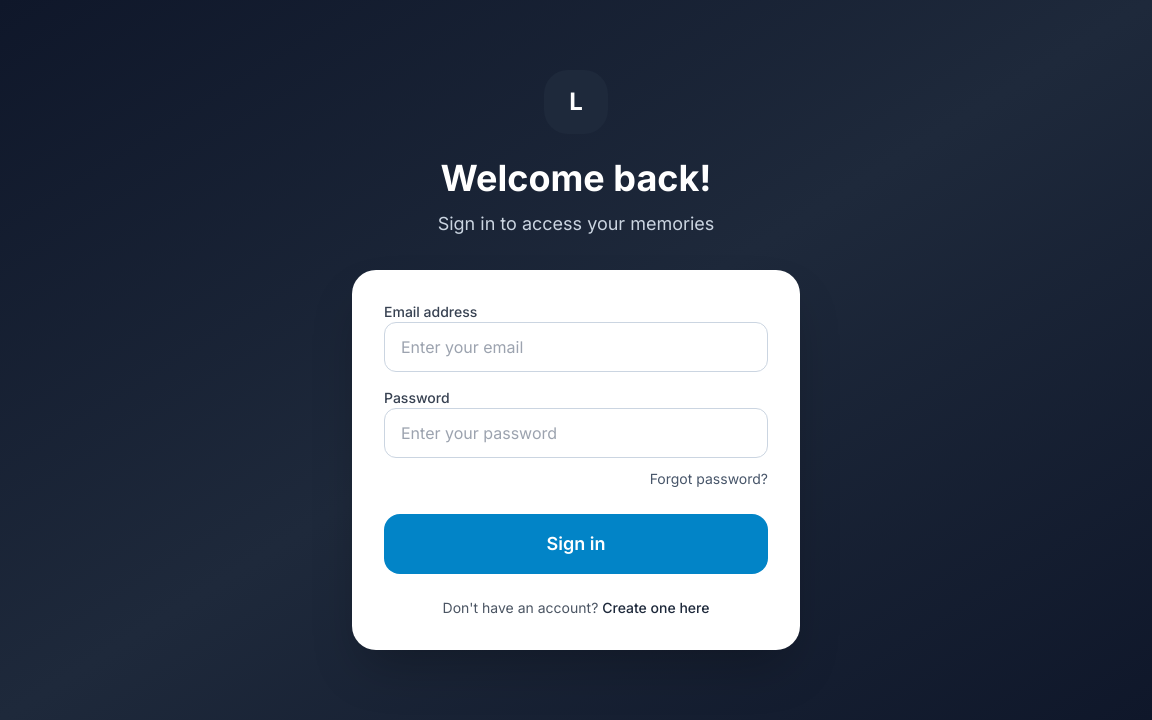
Scenario: Auth Forms - Login Component › should show loading state during login
Type "test@example.com" into the field with placeholder "Enter your email" at point(576, 347), box [384,322,768,372]
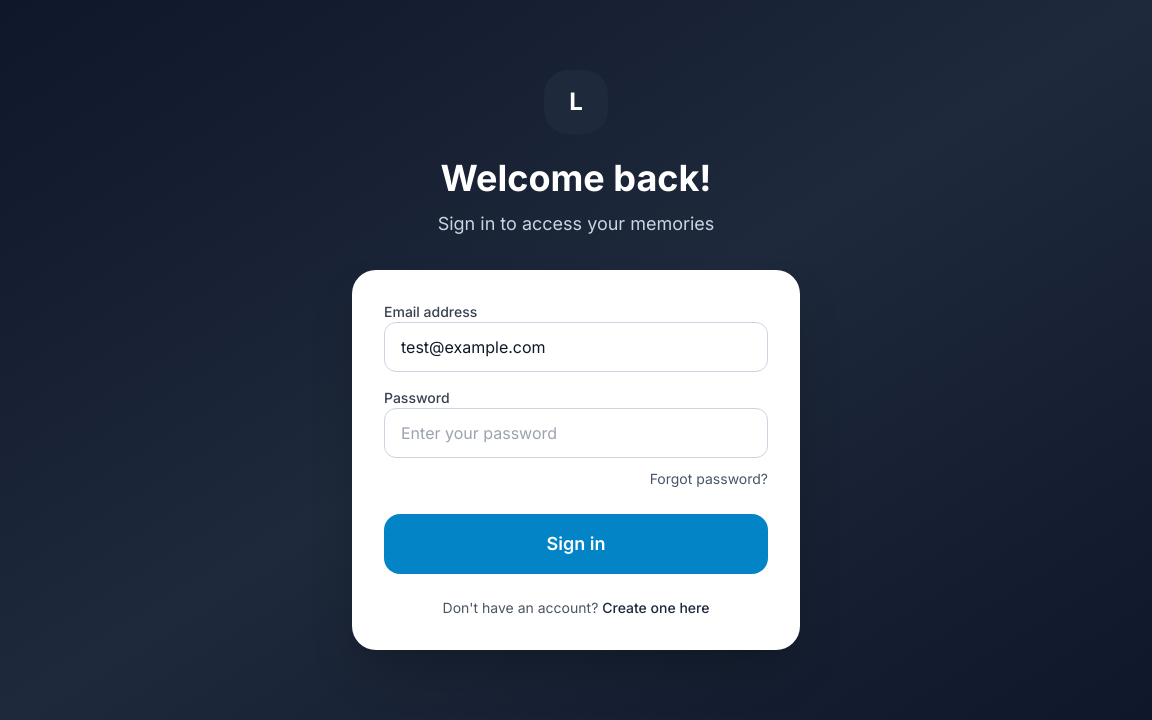
Type "password123" into the password field with placeholder "Enter your password" at point(576, 433), box [384,408,768,458]
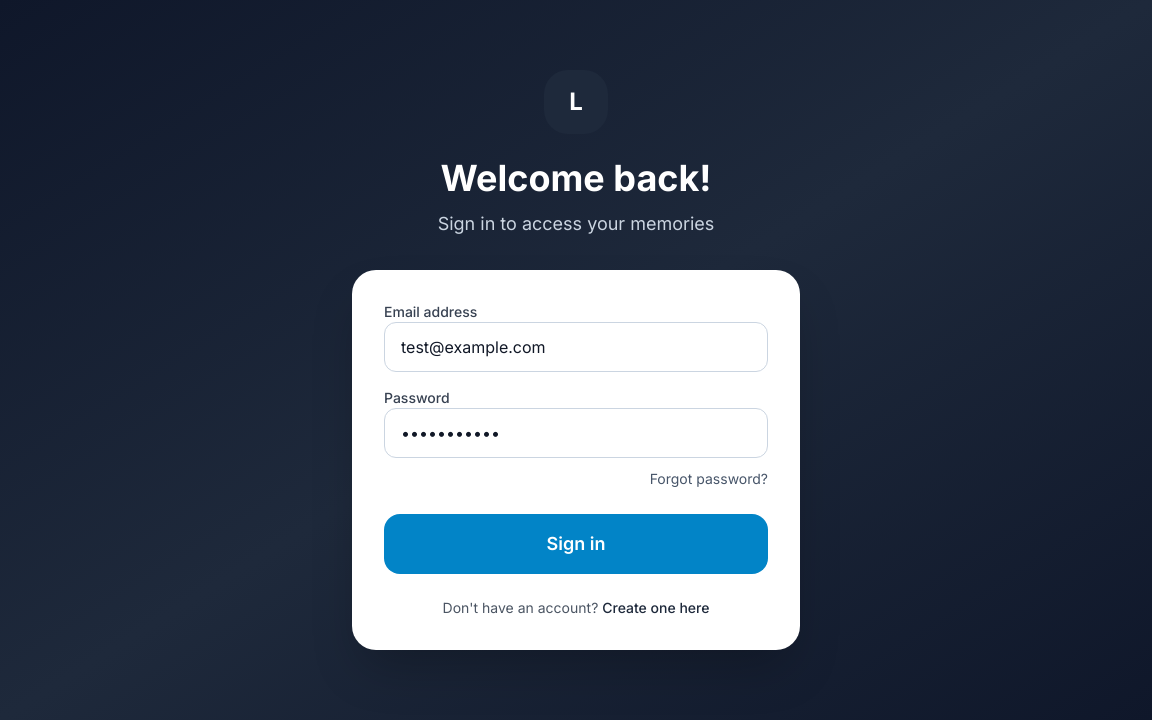
Click the button "Sign in" at point(576, 544), box [384,514,768,574]
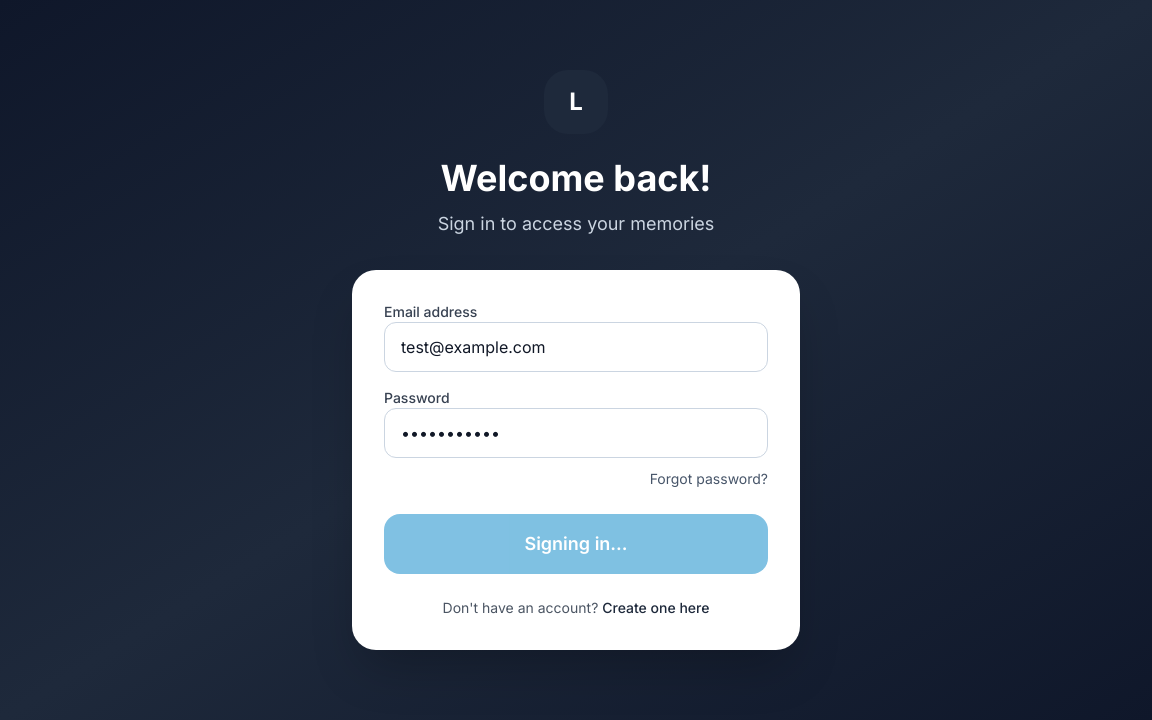
Expected: the button named "sign in" is disabled, [384,514,768,574]
